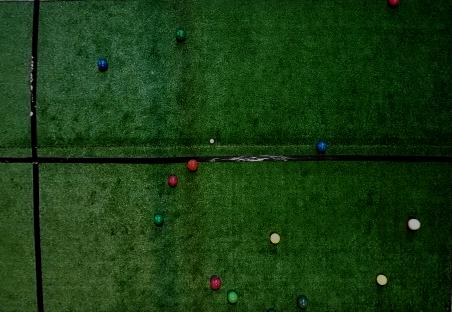blue: (97, 59, 108, 70), (317, 141, 327, 152)
green: (227, 291, 238, 303), (298, 296, 308, 308), (176, 29, 186, 40), (154, 214, 164, 224), (266, 308, 278, 311)
red: (187, 159, 199, 171), (210, 277, 221, 290), (408, 219, 421, 230), (168, 176, 178, 187), (387, 1, 401, 7)
vline: (1, 1, 45, 311), (447, 1, 451, 311)
white: (210, 139, 214, 143)
yellow: (376, 274, 388, 285), (270, 233, 280, 244)
